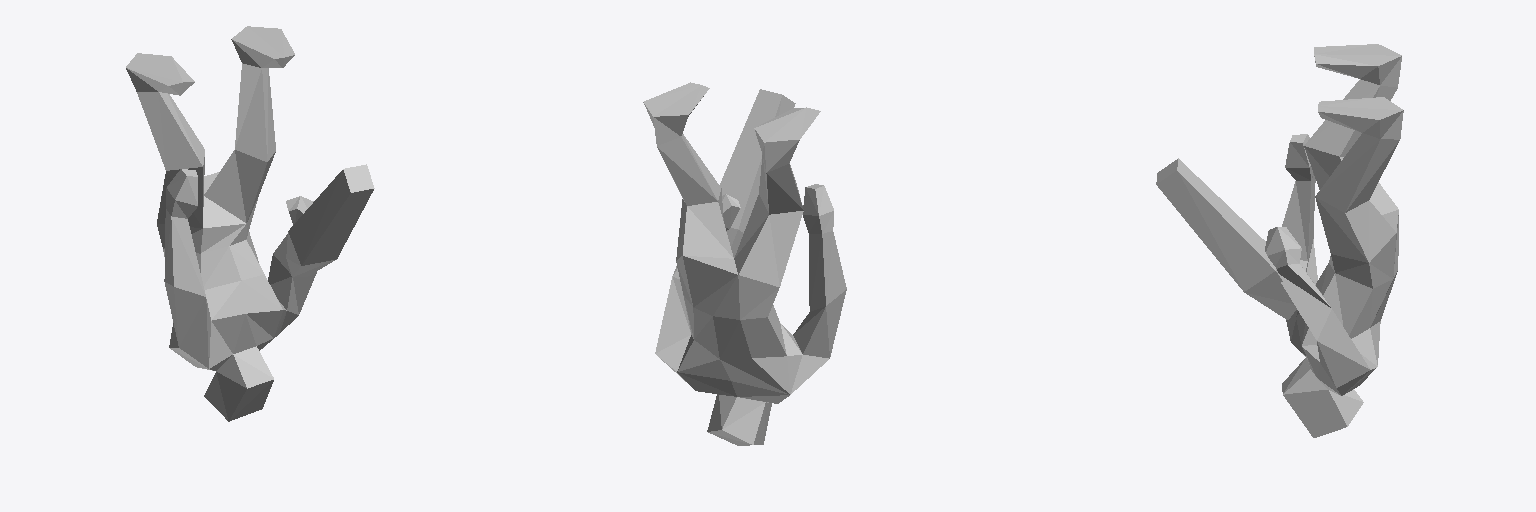
File: Soldier_000008.obj
The picture shows the model from 3 angles: view 1: azimuth 30°, elevation 25°; view 2: azimuth 150°, elevation 25°; view 3: azimuth 270°, elevation 25°; orthographic projection.
Parts seen in each view (by area): view 1: soldier_rfoot_mesh0.004; view 2: soldier_rfoot_mesh0.004; view 3: soldier_rfoot_mesh0.004.
Boxes of the visible parts, x1,y1,x2,y2 form: soldier_rfoot_mesh0.004: [126, 26, 374, 421]; soldier_rfoot_mesh0.004: [643, 82, 846, 445]; soldier_rfoot_mesh0.004: [1156, 44, 1403, 437].
Bounding box in the file's own units: 12.35 × 25.32 × 16.27.